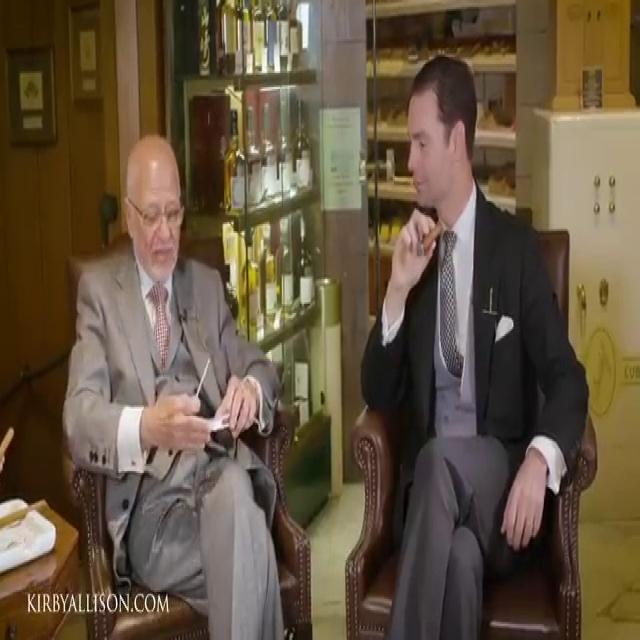Smooking: (416, 215, 442, 269)
